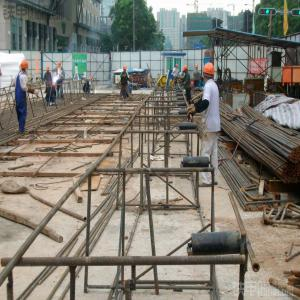red: (204, 63, 216, 82), (21, 60, 30, 74), (57, 62, 63, 69), (52, 83, 57, 90), (123, 66, 128, 73), (184, 66, 189, 73), (89, 78, 94, 84), (47, 67, 51, 73), (176, 64, 180, 70), (196, 65, 200, 71)
